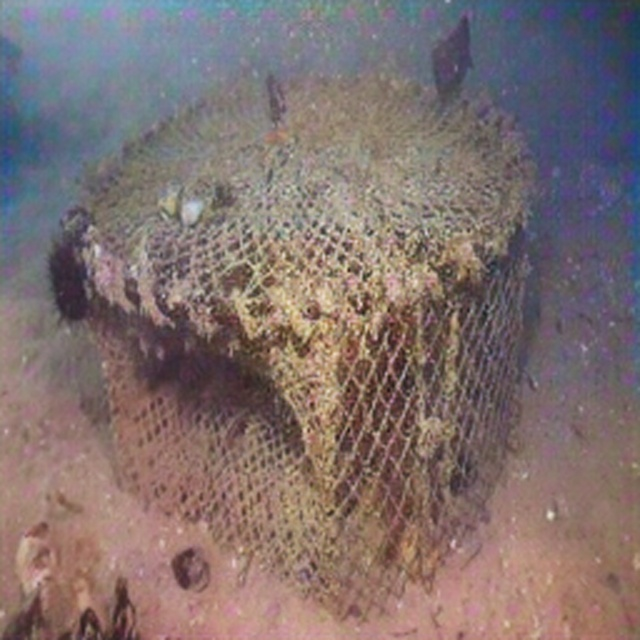mine: (68, 70, 537, 623)
